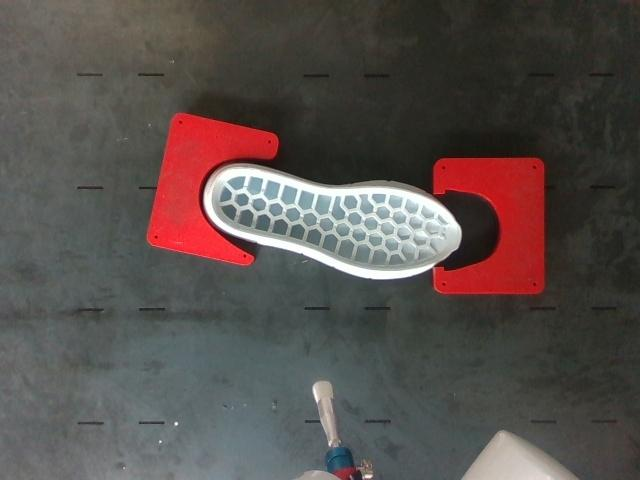shoes: (212, 168, 460, 271)
